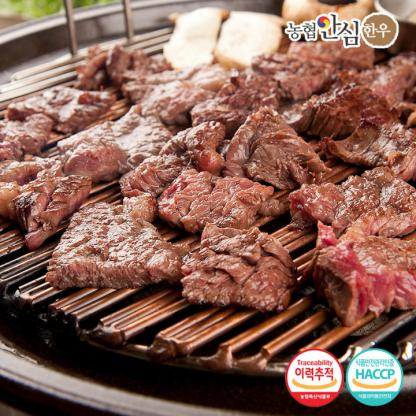Carne: (45, 198, 177, 286), (175, 224, 293, 309), (117, 50, 234, 121), (217, 111, 324, 185), (59, 112, 180, 177), (151, 170, 281, 230), (0, 166, 92, 244), (228, 68, 368, 106), (10, 86, 126, 112), (0, 119, 55, 152)
